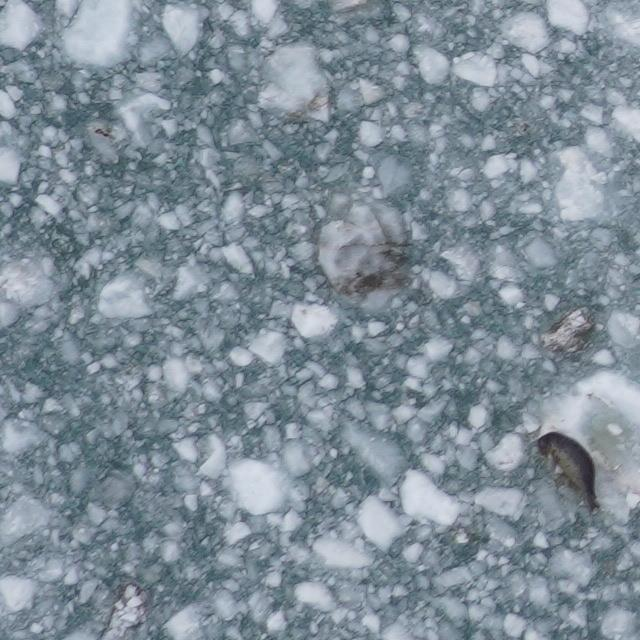seal: (529, 427, 603, 516)
